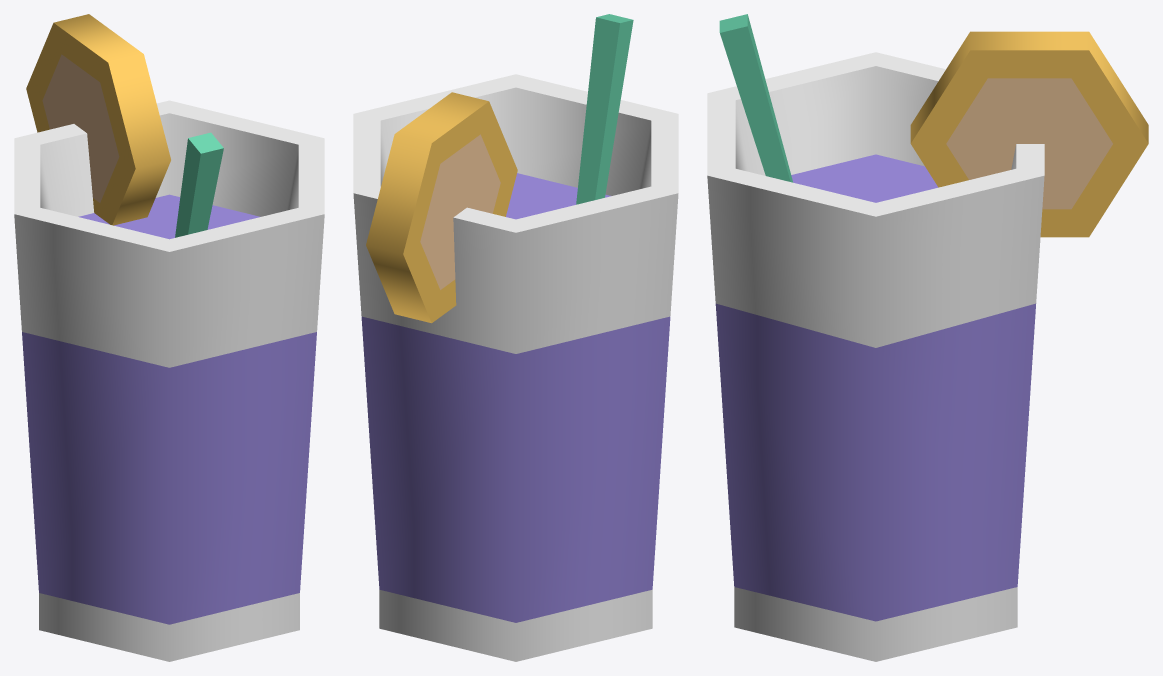
The model's file is sodaGlass.obj.
3 renders of one model, left to right at view 1: azimuth 30°, elevation 25°; view 2: azimuth 150°, elevation 25°; view 3: azimuth 270°, elevation 25°, orthographic. The views are drawn at different scales.
Visible parts, largest first — view 1: sodaGlass, lemon, straw; view 2: sodaGlass, lemon, straw; view 3: sodaGlass, lemon, straw.
Part boxes in pixels (x1,y1,x2,y2): sodaGlass: (14,100,324,661); lemon: (26,14,170,225); straw: (175,132,223,237); sodaGlass: (353,74,678,661); lemon: (366,92,517,323); straw: (576,14,633,204); sodaGlass: (707,52,1044,661); lemon: (910,31,1148,237); straw: (719,14,793,182).
Size of the model in its own units: 0.2618 by 0.4134 by 0.2967.
